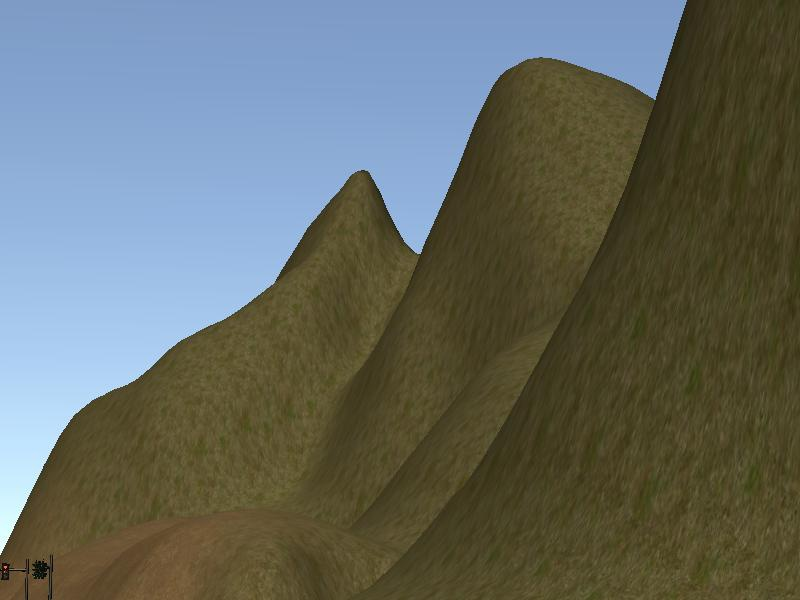Red: (1, 561, 10, 581)
